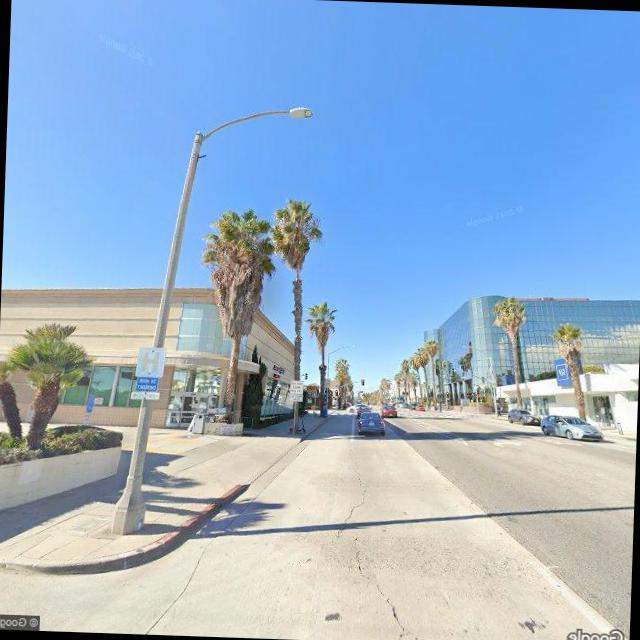pothole: (349, 537, 418, 640), (334, 448, 374, 537)
